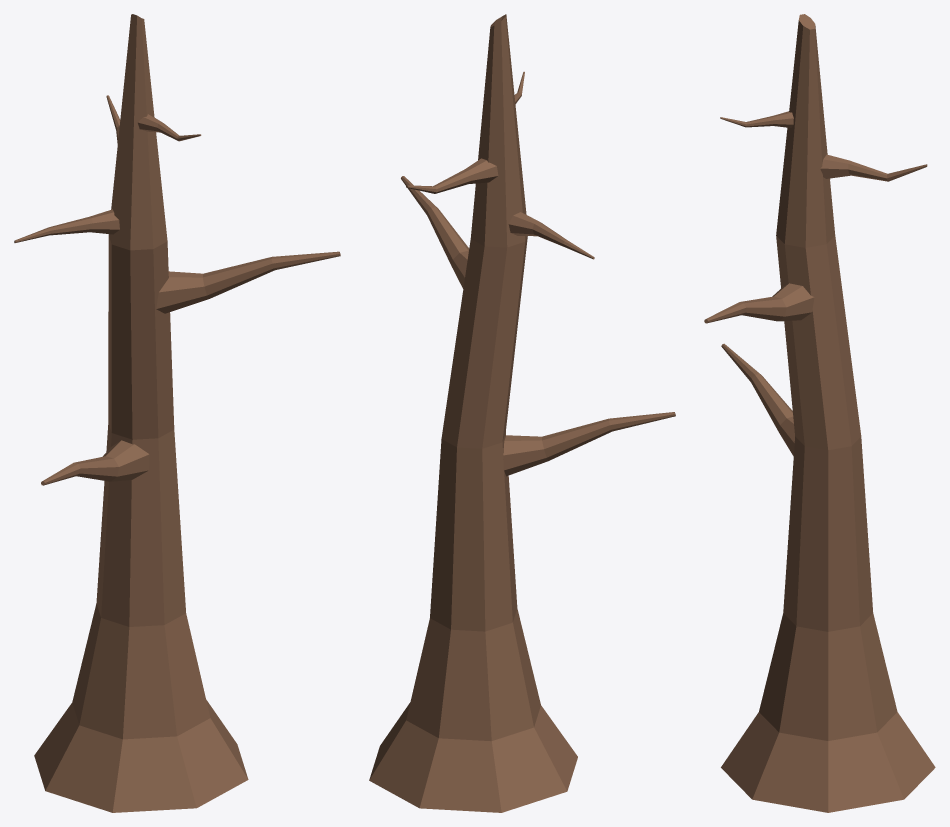
Rendered from env_treedead1_mesh_01_v1.glb.
3 views of the same model, side by side, from view 1: azimuth 30°, elevation 25°; view 2: azimuth 150°, elevation 25°; view 3: azimuth 270°, elevation 25° (orthographic). The views are drawn at different scales.
Parts seen in each view (by area): view 1: TreeDead_LOD0; view 2: TreeDead_LOD0; view 3: TreeDead_LOD0.
Boxes of the visible parts, x1=… form: TreeDead_LOD0: x1=14, y1=14, x2=340, y2=812; TreeDead_LOD0: x1=369, y1=14, x2=675, y2=812; TreeDead_LOD0: x1=704, y1=14, x2=935, y2=812.
Bounding box in the file's own units: 3.81 × 9.62 × 2.71.
